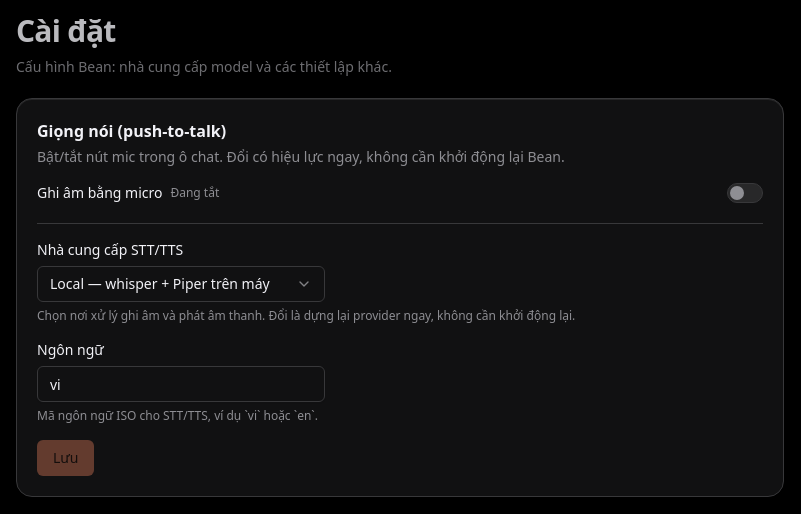
SettingsPage — Voice › bật voice: PATCH gửi cả cấu hình đang hiển thị, switch cập nhật theo snapshot server
The image size is (801, 514).
Click the switch named "Bật/tắt giọng nói" at (745, 193), box top-left (727, 183), bottom-right (763, 203)
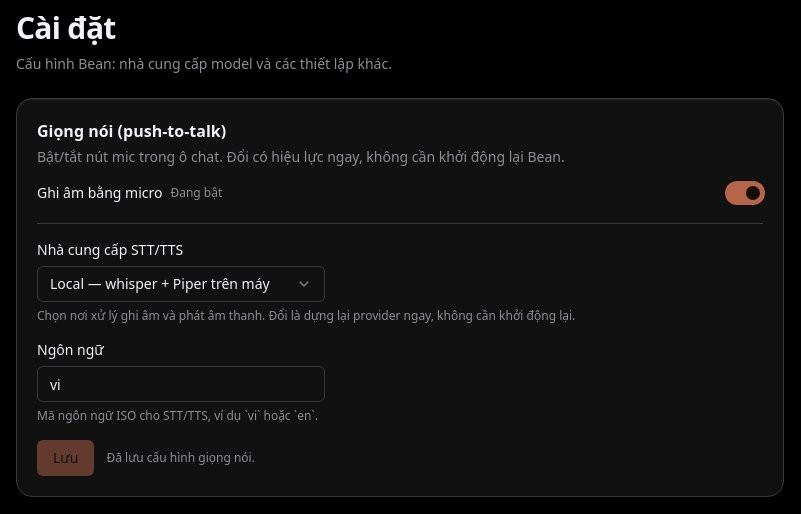
Result: the switch named "Bật/tắt giọng nói" is checked at top-left (727, 183), bottom-right (763, 203)
Result: the text "Đang bật" is shown at top-left (170, 185), bottom-right (222, 201)
